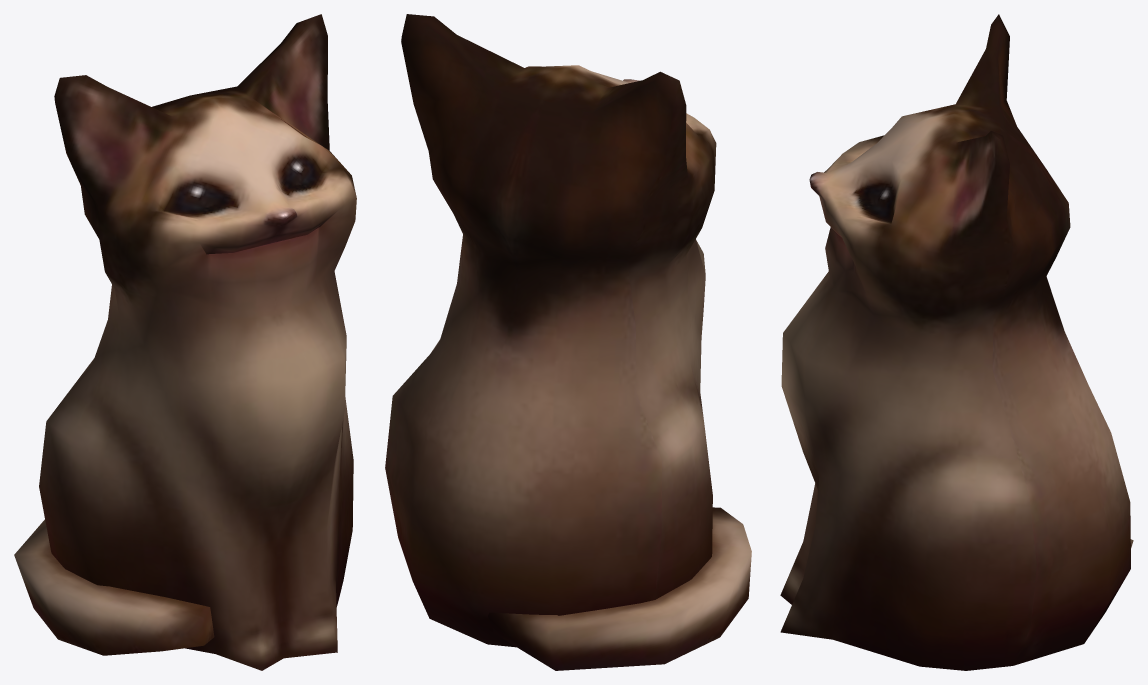
The model's file is cat.glb.
3 renders of one model, left to right at view 1: azimuth 30°, elevation 25°; view 2: azimuth 150°, elevation 25°; view 3: azimuth 270°, elevation 25°, orthographic. The views are drawn at different scales.
Parts seen in each view (by area): view 1: cat; view 2: cat; view 3: cat.
Part boxes in pixels (<box>): cat: <box>14,14,356,670</box>; cat: <box>385,14,751,670</box>; cat: <box>780,14,1133,670</box>.
Size of the model in its own units: 7.58 by 13 by 7.64.
Materials: 1 (1 with a texture image).
